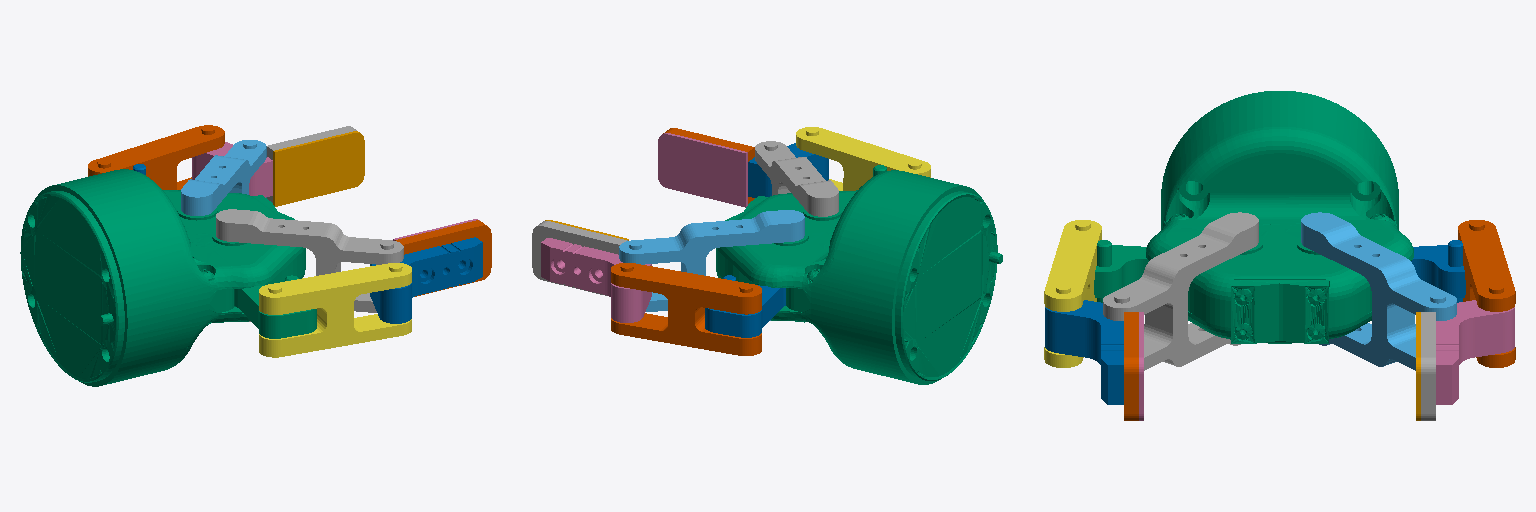
robot.urdf — robotiq_2f85:
<?xml version="1.0" ?>
<!-- =================================================================================== -->
<!-- |    This document was autogenerated by xacro from [local-path]/PCHands/adf/../assets/robotiq_2f85/model_klampt.urdf | -->
<!-- |    EDITING THIS FILE BY HAND IS NOT RECOMMENDED                                 | -->
<!-- =================================================================================== -->
<!--
SPDX-FileCopyrightText: 2025 Humanoid Sensing and Perception, Istituto Italiano di Tecnologia
SPDX-License-Identifier: BSD-3-Clause
-->
<robot name="robotiq_2f85">
  <!--  palm frame  -->
  <link name="eef_link">
    <inertial>
      <origin rpy="0 0 0" xyz="0 0 0"/>
      <mass value="0.0001"/>
      <inertia ixx="1e-5" ixy="0" ixz="0" iyy="1e-5" iyz="0" izz="1e-5"/>
    </inertial>
  </link>
  <joint name="r_eef_calib_joint" type="fixed">
    <parent link="eef_link"/>
    <child link="eef_calib_link"/>
    <origin rpy="0 0 0" xyz="0 0 0"/>
  </joint>
  <link name="eef_calib_link">
    <inertial>
      <origin rpy="0 0 0" xyz="0 0 0"/>
      <mass value="0.0001"/>
      <inertia ixx="1e-5" ixy="0" ixz="0" iyy="1e-5" iyz="0" izz="1e-5"/>
    </inertial>
  </link>
  <joint name="r_eef_fixed_joint" type="fixed">
    <parent link="eef_calib_link"/>
    <child link="palm_base_link"/>
    <origin rpy="3.1416 -1.5708 0.0" xyz="-0.088 0.0 0.0"/>
  </joint>
  <link name="palm_base_link">
    <visual>
      <geometry>
        <mesh filename="mesh/base_link.stl"/>
      </geometry>
    </visual>
    <collision>
      <geometry>
        <mesh filename="mesh/base_link.obj"/>
      </geometry>
    </collision>
    <inertial>
      <origin rpy="0 0 0" xyz="0 0 0"/>
      <mass value="0.1"/>
      <inertia ixx="1e-3" ixy="0" ixz="0" iyy="1e-3" iyz="0" izz="1e-3"/>
    </inertial>
  </link>
  <joint name="r_forearm_fixed_joint" type="fixed">
    <parent link="palm_base_link"/>
    <child link="r_forearm"/>
    <origin rpy="0 -1.5708 0" xyz="0 0 0"/>
  </joint>
  <link name="r_forearm"/>
  <!--  left finger  -->
  <joint name="r_00outer_knuckle_joint" type="revolute">
    <origin rpy="0 0 3.14159265359" xyz="0 -0.0306011 0.054904"/>
    <parent link="palm_base_link"/>
    <child link="gripper_left_outer_knuckle"/>
    <axis xyz="1 0 0"/>
    <limit effort="1000" lower="0" upper="0.82" velocity="2.0"/>
  </joint>
  <link name="gripper_left_outer_knuckle">
    <visual>
      <geometry>
        <mesh filename="mesh/outer_knuckle.stl"/>
      </geometry>
    </visual>
    <collision>
      <geometry>
        <mesh filename="mesh/outer_knuckle.obj"/>
      </geometry>
    </collision>
    <inertial>
      <origin rpy="0 0 0" xyz="0 0 0"/>
      <mass value="0.02"/>
      <inertia ixx="1e-3" ixy="0" ixz="0" iyy="1e-3" iyz="0" izz="1e-3"/>
    </inertial>
  </link>
  <joint name="r_01left_outer_finger_joint" type="fixed">
    <origin rpy="0 0 0" xyz="0 0.0315 -0.0041"/>
    <parent link="gripper_left_outer_knuckle"/>
    <child link="gripper_left_outer_finger"/>
    <axis xyz="1 0 0"/>
  </joint>
  <link name="gripper_left_outer_finger">
    <visual>
      <geometry>
        <mesh filename="mesh/outer_finger.stl"/>
      </geometry>
    </visual>
    <collision>
      <geometry>
        <mesh filename="mesh/outer_finger.obj"/>
      </geometry>
    </collision>
    <inertial>
      <origin rpy="0 0 0" xyz="0 0 0"/>
      <mass value="0.02"/>
      <inertia ixx="1e-3" ixy="0" ixz="0" iyy="1e-3" iyz="0" izz="1e-3"/>
    </inertial>
  </link>
  <joint name="r_02left_inner_finger_joint" type="revolute">
    <origin rpy="0 0 0" xyz="0 0.0061 0.0471"/>
    <parent link="gripper_left_outer_finger"/>
    <child link="gripper_left_inner_finger"/>
    <axis xyz="1 0 0"/>
    <limit effort="1000" lower="-0.82" upper="0" velocity="2.0"/>
    <mimic joint="r_00outer_knuckle_joint" multiplier="-1" offset="0"/>
  </joint>
  <link name="gripper_left_inner_finger">
    <visual>
      <geometry>
        <mesh filename="mesh/inner_finger.stl"/>
      </geometry>
    </visual>
    <collision>
      <geometry>
        <mesh filename="mesh/inner_finger.obj"/>
      </geometry>
    </collision>
    <inertial>
      <origin rpy="0 0 0" xyz="0 0 0"/>
      <mass value="0.02"/>
      <inertia ixx="1e-3" ixy="0" ixz="0" iyy="1e-3" iyz="0" izz="1e-3"/>
    </inertial>
  </link>
  <joint name="r_03left_inner_finger_pad_joint0" type="fixed">
    <origin rpy="0 0 0" xyz="0 0 0"/>
    <parent link="gripper_left_inner_finger"/>
    <child link="gripper_left_inner_finger_pad0"/>
  </joint>
  <link name="gripper_left_inner_finger_pad0">
    <visual>
      <geometry>
        <mesh filename="mesh/fingertip_f0.stl"/>
      </geometry>
    </visual>
    <collision>
      <geometry>
        <mesh filename="mesh/fingertip_f0.stl"/>
      </geometry>
    </collision>
    <inertial>
      <origin rpy="0 0 0" xyz="0 0 0"/>
      <mass value="0.02"/>
      <inertia ixx="1e-3" ixy="0" ixz="0" iyy="1e-3" iyz="0" izz="1e-3"/>
    </inertial>
  </link>
  <joint name="r_04left_inner_finger_pad_joint1" type="fixed">
    <origin rpy="0 0 0" xyz="0 0 0"/>
    <parent link="gripper_left_inner_finger"/>
    <child link="gripper_left_inner_finger_pad1"/>
  </joint>
  <link name="gripper_left_inner_finger_pad1">
    <visual>
      <geometry>
        <mesh filename="mesh/fingertip_f1.stl"/>
      </geometry>
    </visual>
    <collision>
      <geometry>
        <mesh filename="mesh/fingertip_f1.stl"/>
      </geometry>
    </collision>
    <inertial>
      <origin rpy="0 0 0" xyz="0 0 0"/>
      <mass value="0.005"/>
      <inertia ixx="1e-3" ixy="0" ixz="0" iyy="1e-3" iyz="0" izz="1e-3"/>
    </inertial>
  </link>
  <joint name="r_05left_inner_knuckle_joint" type="revolute">
    <origin rpy="0 0 3.14159265359" xyz="0 -0.0127 0.06142"/>
    <parent link="palm_base_link"/>
    <child link="gripper_left_inner_knuckle"/>
    <axis xyz="1 0 0"/>
    <limit effort="1000" lower="0" upper="0.82" velocity="2.0"/>
    <mimic joint="r_00outer_knuckle_joint" multiplier="1" offset="0"/>
  </joint>
  <link name="gripper_left_inner_knuckle">
    <visual>
      <geometry>
        <mesh filename="mesh/inner_knuckle.stl"/>
      </geometry>
    </visual>
    <collision>
      <geometry>
        <mesh filename="mesh/inner_knuckle.obj"/>
      </geometry>
    </collision>
    <inertial>
      <origin rpy="0 0 0" xyz="0 0 0"/>
      <mass value="0.02"/>
      <inertia ixx="1e-3" ixy="0" ixz="0" iyy="1e-3" iyz="0" izz="1e-3"/>
    </inertial>
  </link>
  <!--  right finger  -->
  <joint name="r_10right_outer_knuckle_joint" type="revolute">
    <origin rpy="0 0 0" xyz="0 0.0306011 0.054904"/>
    <parent link="palm_base_link"/>
    <child link="gripper_right_outer_knuckle"/>
    <axis xyz="1 0 0"/>
    <limit effort="1000" lower="0" upper="0.82" velocity="2.0"/>
    <mimic joint="r_00outer_knuckle_joint" multiplier="1" offset="0"/>
  </joint>
  <link name="gripper_right_outer_knuckle">
    <visual>
      <geometry>
        <mesh filename="mesh/outer_knuckle.stl"/>
      </geometry>
    </visual>
    <collision>
      <geometry>
        <mesh filename="mesh/outer_knuckle.obj"/>
      </geometry>
    </collision>
    <inertial>
      <origin rpy="0 0 0" xyz="0 0 0"/>
      <mass value="0.02"/>
      <inertia ixx="1e-3" ixy="0" ixz="0" iyy="1e-3" iyz="0" izz="1e-3"/>
    </inertial>
  </link>
  <joint name="r_11right_outer_finger_joint" type="fixed">
    <origin rpy="0 0 0" xyz="0 0.0315 -0.0041"/>
    <parent link="gripper_right_outer_knuckle"/>
    <child link="gripper_right_outer_finger"/>
    <axis xyz="1 0 0"/>
  </joint>
  <link name="gripper_right_outer_finger">
    <visual>
      <geometry>
        <mesh filename="mesh/outer_finger.stl"/>
      </geometry>
    </visual>
    <collision>
      <geometry>
        <mesh filename="mesh/outer_finger.obj"/>
      </geometry>
    </collision>
    <inertial>
      <origin rpy="0 0 0" xyz="0 0 0"/>
      <mass value="0.02"/>
      <inertia ixx="1e-3" ixy="0" ixz="0" iyy="1e-3" iyz="0" izz="1e-3"/>
    </inertial>
  </link>
  <joint name="r_12right_inner_finger_joint" type="revolute">
    <origin rpy="0 0 0" xyz="0 0.0061 0.0471"/>
    <parent link="gripper_right_outer_finger"/>
    <child link="gripper_right_inner_finger"/>
    <axis xyz="1 0 0"/>
    <limit effort="1000" lower="-0.82" upper="0" velocity="2.0"/>
    <mimic joint="r_00outer_knuckle_joint" multiplier="-1" offset="0"/>
  </joint>
  <link name="gripper_right_inner_finger">
    <visual>
      <geometry>
        <mesh filename="mesh/inner_finger.stl"/>
      </geometry>
    </visual>
    <collision>
      <geometry>
        <mesh filename="mesh/inner_finger.obj"/>
      </geometry>
    </collision>
    <inertial>
      <origin rpy="0 0 0" xyz="0 0 0"/>
      <mass value="0.02"/>
      <inertia ixx="1e-3" ixy="0" ixz="0" iyy="1e-3" iyz="0" izz="1e-3"/>
    </inertial>
  </link>
  <joint name="r_13right_inner_finger_pad_joint0" type="fixed">
    <origin rpy="0 0 0" xyz="0 0 0"/>
    <parent link="gripper_right_inner_finger"/>
    <child link="gripper_right_inner_finger_pad0"/>
  </joint>
  <link name="gripper_right_inner_finger_pad0">
    <visual>
      <geometry>
        <mesh filename="mesh/fingertip_f0.stl"/>
      </geometry>
    </visual>
    <collision>
      <geometry>
        <mesh filename="mesh/fingertip_f0.stl"/>
      </geometry>
    </collision>
    <inertial>
      <origin rpy="0 0 0" xyz="0 0 0"/>
      <mass value="0.005"/>
      <inertia ixx="1e-3" ixy="0" ixz="0" iyy="1e-3" iyz="0" izz="1e-3"/>
    </inertial>
  </link>
  <joint name="r_14right_inner_finger_pad_joint1" type="fixed">
    <origin rpy="0 0 0" xyz="0 0 0"/>
    <parent link="gripper_right_inner_finger"/>
    <child link="gripper_right_inner_finger_pad1"/>
  </joint>
  <link name="gripper_right_inner_finger_pad1">
    <visual>
      <geometry>
        <mesh filename="mesh/fingertip_f1.stl"/>
      </geometry>
    </visual>
    <collision>
      <geometry>
        <mesh filename="mesh/fingertip_f1.stl"/>
      </geometry>
    </collision>
    <inertial>
      <origin rpy="0 0 0" xyz="0 0 0"/>
      <mass value="0.005"/>
      <inertia ixx="1e-3" ixy="0" ixz="0" iyy="1e-3" iyz="0" izz="1e-3"/>
    </inertial>
  </link>
  <joint name="r_15right_inner_knuckle_joint" type="revolute">
    <origin rpy="0 0 0" xyz="0 0.0127 0.06142"/>
    <parent link="palm_base_link"/>
    <child link="gripper_right_inner_knuckle"/>
    <axis xyz="1 0 0"/>
    <limit effort="1000" lower="0" upper="0.82" velocity="2.0"/>
    <mimic joint="r_00outer_knuckle_joint" multiplier="1" offset="0"/>
  </joint>
  <link name="gripper_right_inner_knuckle">
    <visual>
      <geometry>
        <mesh filename="mesh/inner_knuckle.stl"/>
      </geometry>
    </visual>
    <collision>
      <geometry>
        <mesh filename="mesh/inner_knuckle.obj"/>
      </geometry>
    </collision>
    <inertial>
      <origin rpy="0 0 0" xyz="0 0 0"/>
      <mass value="0.02"/>
      <inertia ixx="1e-3" ixy="0" ixz="0" iyy="1e-3" iyz="0" izz="1e-3"/>
    </inertial>
  </link>
  <!--  anchor  -->
  <link name="A_00"/>
  <link name="A_01"/>
  <link name="A_02"/>
  <link name="A_03"/>
  <link name="A_04"/>
  <link name="A_05"/>
  <link name="A_06"/>
  <link name="A_07"/>
  <link name="A_08"/>
  <link name="A_09"/>
  <link name="A_10"/>
  <link name="A_11"/>
  <link name="A_12"/>
  <link name="A_13"/>
  <link name="A_14"/>
  <link name="A_15"/>
  <link name="A_16"/>
  <link name="A_17"/>
  <link name="A_18"/>
  <link name="A_19"/>
  <link name="A_20"/>
  <link name="A_21"/>
  <!--  thumb  -->
  <joint name="joint_A_00" type="fixed">
    <child link="A_00"/>
    <parent link="gripper_left_inner_knuckle"/>
    <origin rpy="0 0 0" xyz="0 0.021 0.034"/>
  </joint>
  <joint name="joint_A_01" type="fixed">
    <child link="A_01"/>
    <parent link="gripper_left_inner_finger"/>
    <origin rpy="0 0 0" xyz="0 -0.024 0.01"/>
  </joint>
  <joint name="joint_A_02" type="fixed">
    <child link="A_02"/>
    <parent link="gripper_left_inner_finger_pad1"/>
    <origin rpy="0 0 0" xyz="0 -0.025 0.033"/>
  </joint>
  <joint name="joint_A_03" type="fixed">
    <child link="A_03"/>
    <parent link="gripper_left_inner_finger_pad1"/>
    <origin rpy="0 0 0" xyz="0 -0.025 0.051"/>
  </joint>
  <!--  index  -->
  <joint name="joint_A_04" type="fixed">
    <child link="A_04"/>
    <parent link="gripper_right_inner_knuckle"/>
    <origin rpy="0 0 0" xyz="0 0.021 0.034"/>
  </joint>
  <joint name="joint_A_05" type="fixed">
    <child link="A_05"/>
    <parent link="gripper_right_inner_finger"/>
    <origin rpy="0 0 0" xyz="0 -0.024 0.01"/>
  </joint>
  <joint name="joint_A_06" type="fixed">
    <child link="A_06"/>
    <parent link="gripper_right_inner_finger_pad1"/>
    <origin rpy="0 0 0" xyz="0 -0.025 0.033"/>
  </joint>
  <joint name="joint_A_07" type="fixed">
    <child link="A_07"/>
    <parent link="gripper_right_inner_finger_pad1"/>
    <origin rpy="0 0 0" xyz="0 -0.025 0.051"/>
  </joint>
  <!--  mid  -->
  <joint name="joint_A_08" type="fixed">
    <child link="A_08"/>
    <parent link="gripper_right_inner_knuckle"/>
    <origin rpy="0 0 0" xyz="0 0.021 0.034"/>
  </joint>
  <joint name="joint_A_09" type="fixed">
    <child link="A_09"/>
    <parent link="gripper_right_inner_finger"/>
    <origin rpy="0 0 0" xyz="0 -0.024 0.01"/>
  </joint>
  <joint name="joint_A_10" type="fixed">
    <child link="A_10"/>
    <parent link="gripper_right_inner_finger_pad1"/>
    <origin rpy="0 0 0" xyz="0 -0.025 0.033"/>
  </joint>
  <joint name="joint_A_11" type="fixed">
    <child link="A_11"/>
    <parent link="gripper_right_inner_finger_pad1"/>
    <origin rpy="0 0 0" xyz="0 -0.025 0.051"/>
  </joint>
  <!--  ring  -->
  <joint name="joint_A_12" type="fixed">
    <child link="A_12"/>
    <parent link="gripper_right_inner_knuckle"/>
    <origin rpy="0 0 0" xyz="0 0.021 0.034"/>
  </joint>
  <joint name="joint_A_13" type="fixed">
    <child link="A_13"/>
    <parent link="gripper_right_inner_finger"/>
    <origin rpy="0 0 0" xyz="0 -0.024 0.01"/>
  </joint>
  <joint name="joint_A_14" type="fixed">
    <child link="A_14"/>
    <parent link="gripper_right_inner_finger_pad1"/>
    <origin rpy="0 0 0" xyz="0 -0.025 0.033"/>
  </joint>
  <joint name="joint_A_15" type="fixed">
    <child link="A_15"/>
    <parent link="gripper_right_inner_finger_pad1"/>
    <origin rpy="0 0 0" xyz="0 -0.025 0.051"/>
  </joint>
  <!--  pink  -->
  <joint name="joint_A_16" type="fixed">
    <child link="A_16"/>
    <parent link="gripper_right_inner_knuckle"/>
    <origin rpy="0 0 0" xyz="0 0.021 0.034"/>
  </joint>
  <joint name="joint_A_17" type="fixed">
    <child link="A_17"/>
    <parent link="gripper_right_inner_finger"/>
    <origin rpy="0 0 0" xyz="0 -0.024 0.01"/>
  </joint>
  <joint name="joint_A_18" type="fixed">
    <child link="A_18"/>
    <parent link="gripper_right_inner_finger_pad1"/>
    <origin rpy="0 0 0" xyz="0 -0.025 0.033"/>
  </joint>
  <joint name="joint_A_19" type="fixed">
    <child link="A_19"/>
    <parent link="gripper_right_inner_finger_pad1"/>
    <origin rpy="0 0 0" xyz="0 -0.025 0.051"/>
  </joint>
  <!--  palm  -->
  <joint name="joint_A_20" type="fixed">
    <child link="A_20"/>
    <parent link="palm_base_link"/>
    <origin rpy="0 0 0" xyz="0.01 0 0.088"/>
  </joint>
  <joint name="joint_A_21" type="fixed">
    <child link="A_21"/>
    <parent link="palm_base_link"/>
    <origin rpy="0 0 0" xyz="-0.01 0 0.088"/>
  </joint>
  <klampt freeze_root_link="1" use_vis_geom="1"/>
</robot>

--- Facts derived from the render (not from the file) ---
The picture shows the robot from 3 angles, left to right: view 1: azimuth 30°, elevation 25°; view 2: azimuth 150°, elevation 25°; view 3: azimuth 270°, elevation 25°; orthographic projection.
Robot: robotiq_2f85 — 38 links, 37 joints (6 revolute, 31 fixed); root link eef_link; default pose: all joints at 0.
Links seen in each view (by area): view 1: palm_base_link, gripper_right_outer_finger, gripper_right_inner_knuckle, gripper_left_inner_finger_pad1, gripper_right_inner_finger, gripper_left_outer_finger, gripper_left_inner_knuckle, gripper_right_outer_knuckle, gripper_right_inner_finger_pad0, gripper_left_inner_finger, gripper_left_inner_finger_pad0; view 2: palm_base_link, gripper_left_outer_finger, gripper_left_inner_knuckle, gripper_right_inner_finger_pad1, gripper_left_inner_finger, gripper_right_outer_finger, gripper_right_inner_knuckle, gripper_left_outer_knuckle, gripper_left_inner_finger_pad0, gripper_right_inner_finger, gripper_right_inner_finger_pad0; view 3: palm_base_link, gripper_left_inner_knuckle, gripper_right_inner_knuckle, gripper_left_inner_finger, gripper_right_inner_finger, gripper_right_outer_finger, gripper_left_outer_finger, gripper_right_outer_knuckle, gripper_left_outer_knuckle, gripper_left_inner_finger_pad0, gripper_right_inner_finger_pad0, gripper_left_inner_finger_pad1 (+1 smaller).
Boxes of the visible links, x1=… form: palm_base_link: x1=20, y1=169, x2=305, y2=386; gripper_right_outer_finger: x1=259, y1=263, x2=411, y2=357; gripper_right_inner_knuckle: x1=216, y1=209, x2=403, y2=321; gripper_left_inner_finger_pad1: x1=273, y1=131, x2=364, y2=206; gripper_right_inner_finger: x1=370, y1=237, x2=482, y2=323; gripper_left_outer_finger: x1=88, y1=125, x2=224, y2=189; gripper_left_inner_knuckle: x1=181, y1=140, x2=266, y2=215; gripper_right_outer_knuckle: x1=234, y1=275, x2=316, y2=338; gripper_right_inner_finger_pad0: x1=395, y1=220, x2=491, y2=296; gripper_left_inner_finger: x1=192, y1=142, x2=272, y2=197; gripper_left_inner_finger_pad0: x1=267, y1=126, x2=356, y2=202; palm_base_link: x1=716, y1=170, x2=1002, y2=384; gripper_left_outer_finger: x1=611, y1=263, x2=761, y2=355; gripper_left_inner_knuckle: x1=619, y1=210, x2=804, y2=320; gripper_right_inner_finger_pad1: x1=658, y1=133, x2=747, y2=207; gripper_left_inner_finger: x1=541, y1=238, x2=651, y2=322; gripper_right_outer_finger: x1=796, y1=127, x2=930, y2=190; gripper_right_inner_knuckle: x1=755, y1=141, x2=838, y2=216; gripper_left_outer_knuckle: x1=705, y1=275, x2=785, y2=337; gripper_left_inner_finger_pad0: x1=532, y1=221, x2=627, y2=295; gripper_right_inner_finger: x1=748, y1=143, x2=828, y2=197; gripper_right_inner_finger_pad0: x1=663, y1=128, x2=754, y2=203; palm_base_link: x1=1146, y1=91, x2=1413, y2=343; gripper_left_inner_knuckle: x1=1301, y1=212, x2=1456, y2=370; gripper_right_inner_knuckle: x1=1103, y1=212, x2=1258, y2=370; gripper_left_inner_finger: x1=1436, y1=300, x2=1514, y2=404; gripper_right_inner_finger: x1=1045, y1=300, x2=1123, y2=404; gripper_right_outer_finger: x1=1044, y1=220, x2=1101, y2=367; gripper_left_outer_finger: x1=1458, y1=220, x2=1515, y2=367; gripper_right_outer_knuckle: x1=1094, y1=240, x2=1148, y2=302; gripper_left_outer_knuckle: x1=1411, y1=240, x2=1465, y2=302; gripper_left_inner_finger_pad0: x1=1421, y1=312, x2=1435, y2=420; gripper_right_inner_finger_pad0: x1=1124, y1=312, x2=1138, y2=420; gripper_left_inner_finger_pad1: x1=1416, y1=312, x2=1420, y2=420.
Bounding box of the posed robot: 0.153 × 0.1484 × 0.075 m (x, y, z).
Meshes: 7 distinct files referenced, 13 mesh visuals loaded (7 binary STL).